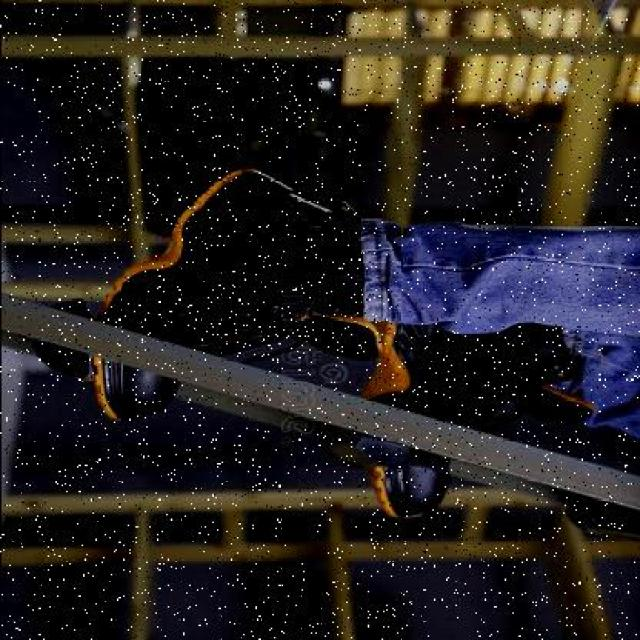shoes: (90, 167, 361, 422), (378, 304, 570, 519)
